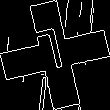L_S: (34, 27, 76, 83)
